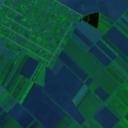alloviz: (78, 9, 100, 29)
